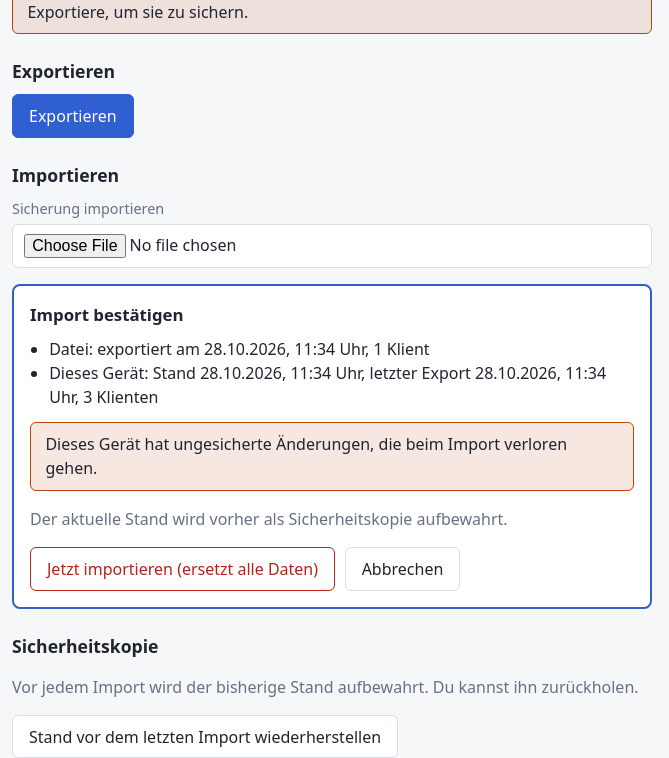
BackupPage › Import: Vergleich, Abbrechen lässt alles unverändert, Bestätigen ersetzt
The width and height of the screenshot is (669, 758).
Earlier steps of the test are not shown.
Later steps or results of the test are not shown.
(page scrolled)
Expected: the list item "Datei: exportiert am 28.10.2026, 11:34 Uhr, 1 Klient" is shown, [49, 338, 430, 360]
Expected: the list item that starts with "Dieses Gerät: Stand" is shown, [49, 361, 634, 409]
Click the button "Abbrechen".
click(402, 569)  # box [345, 547, 460, 590]
(page scrolled)
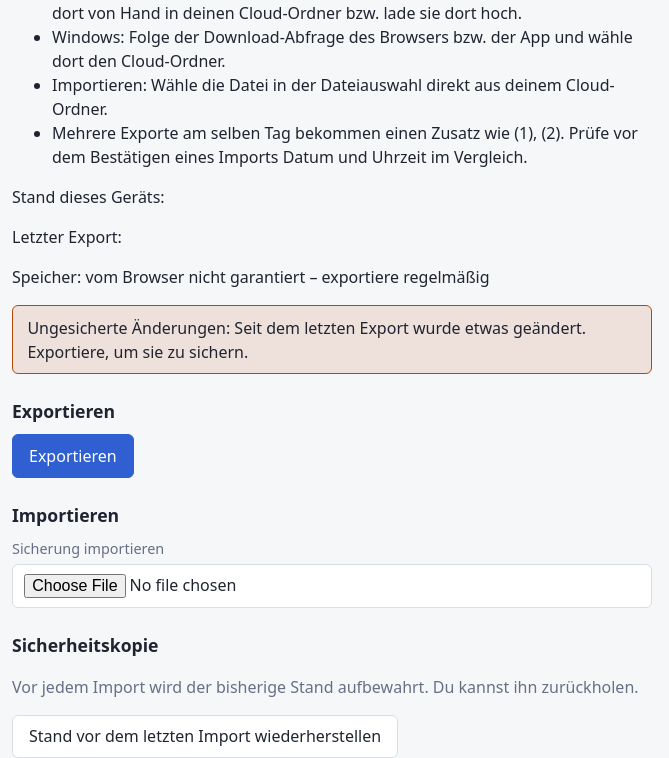
Now the heading "Import bestätigen" is gone
Now the file field labelled "Sicherung importieren" is empty, box [12, 564, 652, 608]
